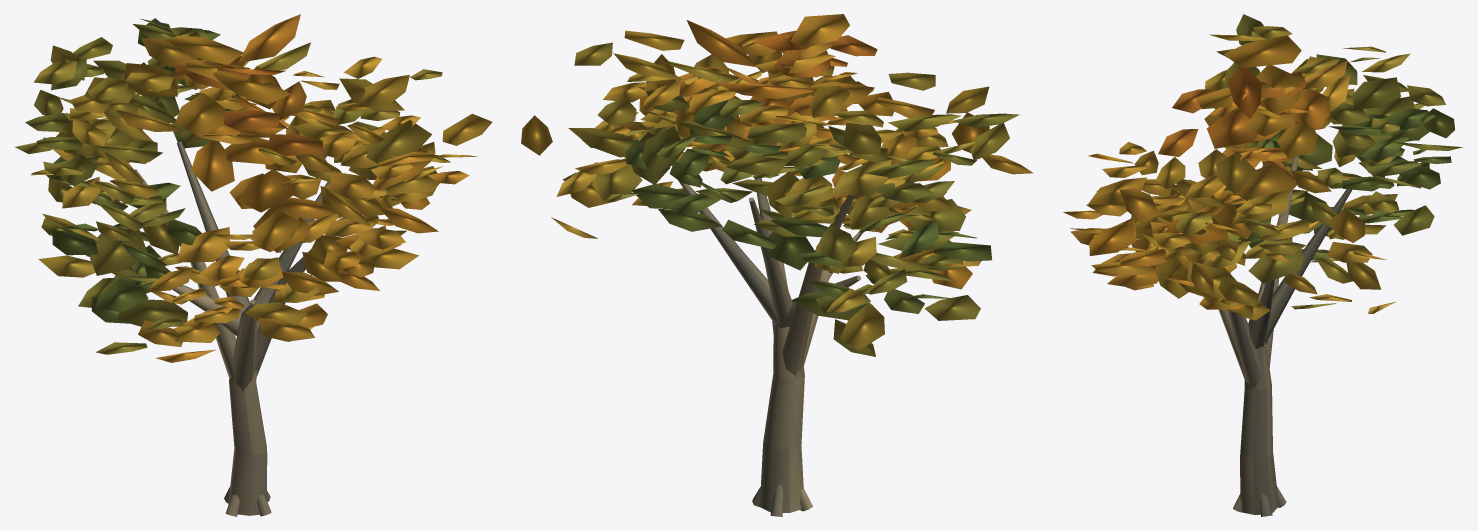
The model's file is HK_Tree_Zelkova.lod.glb.
3 views of the same model, side by side, from view 1: azimuth 30°, elevation 25°; view 2: azimuth 150°, elevation 25°; view 3: azimuth 270°, elevation 25° (orthographic). The views are drawn at different scales.
Parts seen in each view (by area): view 1: HK_Tree_Zelkova; view 2: HK_Tree_Zelkova; view 3: HK_Tree_Zelkova.
Boxes of the visible parts, <box> form: HK_Tree_Zelkova: <box>15,14,492,516</box>; HK_Tree_Zelkova: <box>521,14,1033,516</box>; HK_Tree_Zelkova: <box>1063,14,1462,516</box>.
Size of the model in its own units: 8.11 by 8.84 by 7.24.
